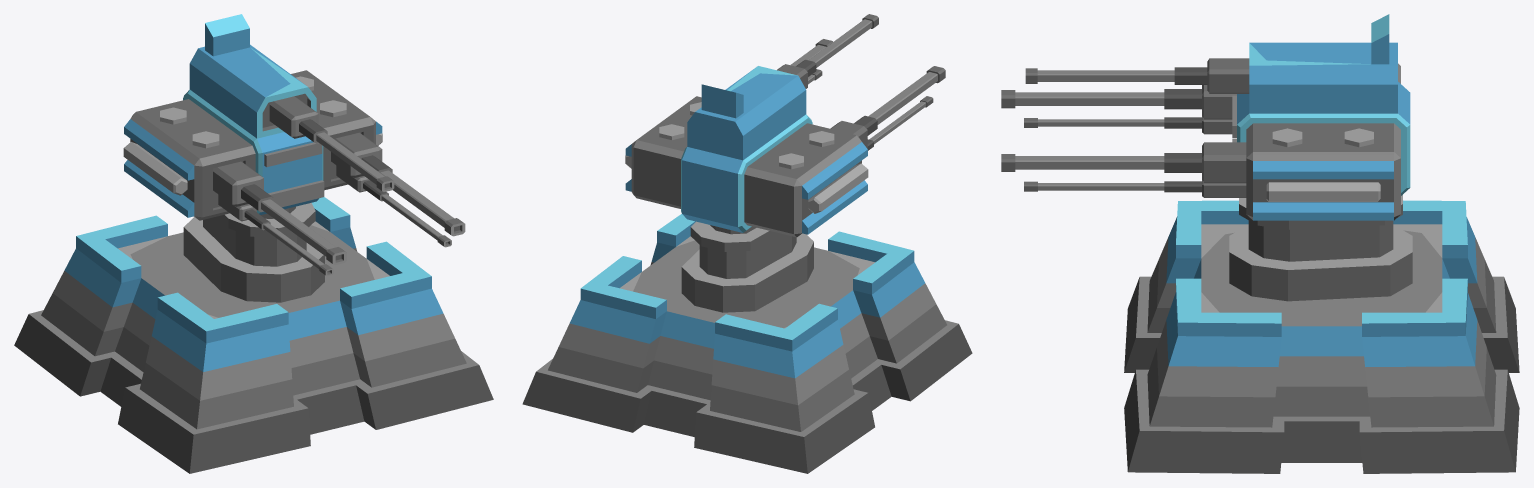
The model's file is tower_rapid_blue_3.fbx.
The picture shows the model from 3 angles, left to right: view 1: azimuth 30°, elevation 25°; view 2: azimuth 150°, elevation 25°; view 3: azimuth 270°, elevation 25°; orthographic projection. The views are drawn at different scales.
Parts seen in each view (by area): view 1: tower_rapid_blue_3, top_rapid_blue_3; view 2: tower_rapid_blue_3, top_rapid_blue_3; view 3: tower_rapid_blue_3, top_rapid_blue_3.
Part boxes in pixels (x1,y1,x2,y2): tower_rapid_blue_3: (14,197,493,473); top_rapid_blue_3: (123,14,465,302); tower_rapid_blue_3: (522,214,972,473); top_rapid_blue_3: (625,14,945,312); tower_rapid_blue_3: (1124,200,1519,473); top_rapid_blue_3: (1001,14,1412,301).
Bounding box in the file's own units: 171 × 175 × 224.
